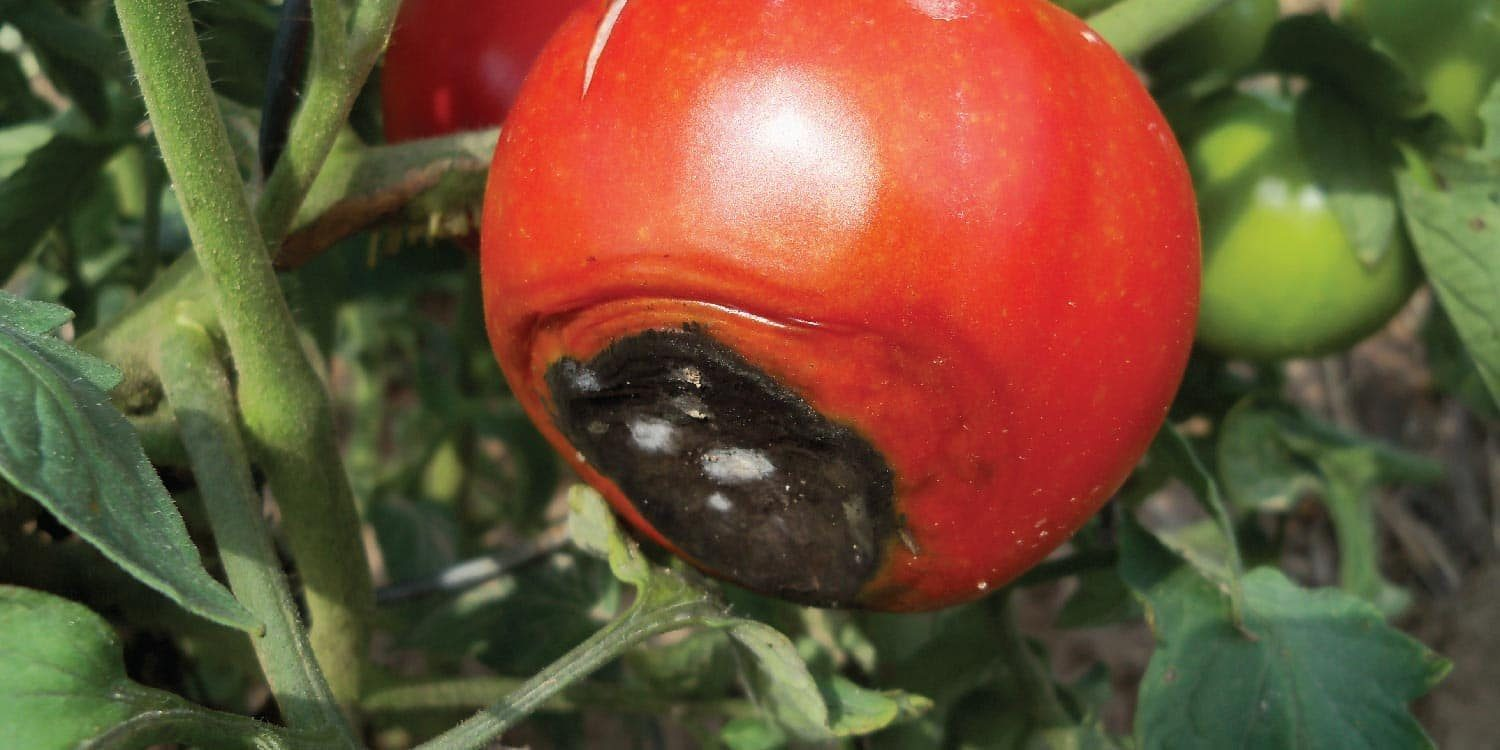blossom_rotw: (533, 245, 1001, 634)
